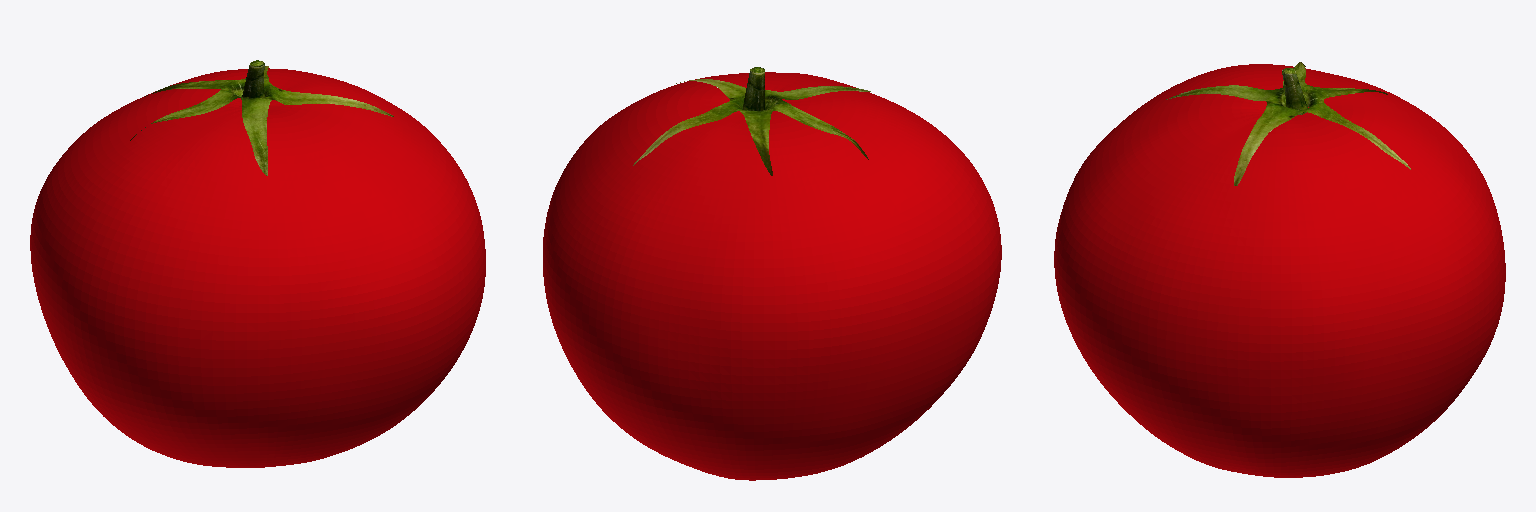
3 renders of one model, left to right at view 1: azimuth 30°, elevation 25°; view 2: azimuth 150°, elevation 25°; view 3: azimuth 270°, elevation 25°, orthographic.
Parts seen in each view (by area): view 1: tomato_Сфера, green_Цилиндр; view 2: tomato_Сфера, green_Цилиндр; view 3: tomato_Сфера, green_Цилиндр.
Boxes of the visible parts, <box> form: tomato_Сфера: <box>30,68,485,467</box>; green_Цилиндр: <box>130,60,393,175</box>; tomato_Сфера: <box>543,72,1001,480</box>; green_Цилиндр: <box>633,67,870,175</box>; tomato_Сфера: <box>1054,64,1505,477</box>; green_Цилиндр: <box>1166,62,1410,185</box>.
Size of the model in its own units: 0.104 by 0.0946 by 0.1016.
2 materials, 1 textured.